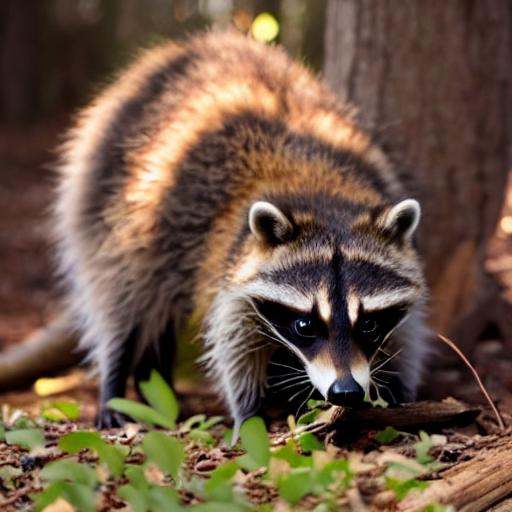raccoon: (34, 17, 456, 422)
